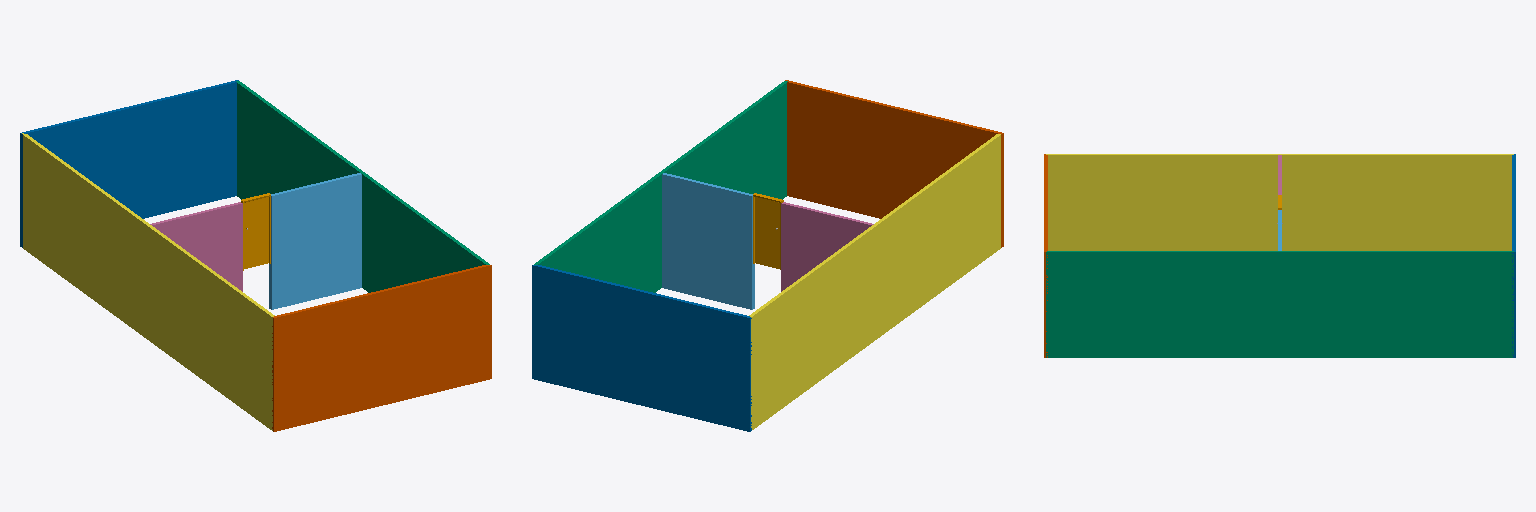
The robot description file, URDF, robot "8903":
<?xml version="1.0" ?>
<robot name="8903" version="1.0">
  <link name="base_link">
    <visual name="link_0___1">
      <origin rpy="0.0 0.0 0.0" xyz="0.0 -0.0 0.0"/>
      <geometry>
        <mesh filename="shape/visual/link_0_m1_vm.obj"/>
      </geometry>
    </visual>
    <collision>
      <origin rpy="0.0 0.0 0.0" xyz="0.0 -0.0 0.0"/>
      <geometry>
        <mesh filename="shape/collision/link_0_cm.obj"/>
      </geometry>
    </collision>
  </link>
  <link name="door_left_wall">
    <visual name="left_wall_0___1">
      <origin rpy="0.0 0.0 0.0" xyz="0.0 -0.0 0.0"/>
      <geometry>
        <box size="2.5 0.1 3.0"/>
      </geometry>
    </visual>
    <collision>
      <origin rpy="0.0 0.0 0.0" xyz="0.0 -0.0 0.0"/>
      <geometry>
        <box size="2.5 0.1 0.5"/>
      </geometry>
    </collision>
  </link>
  <link name="left_wall">
    <visual name="left_wall_1___1">
      <origin rpy="0.0 0.0 0.0" xyz="0.0 -0.0 0.0"/>
      <geometry>
        <box size="12.0 0.1 3.0"/>
      </geometry>
    </visual>
    <collision>
      <origin rpy="0.0 0.0 0.0" xyz="0.0 -0.0 0.0"/>
      <geometry>
        <box size="12.0 0.1 0.5"/>
      </geometry>
    </collision>
  </link>
  <link name="right_wall">
    <visual name="right_wall_1___1">
      <origin rpy="0.0 0.0 0.0" xyz="0.0 -0.0 0.0"/>
      <geometry>
        <box size="12.0 0.1 3.0"/>
      </geometry>
    </visual>
    <collision>
      <origin rpy="0.0 0.0 0.0" xyz="0.0 -0.0 0.0"/>
      <geometry>
        <box size="12.0 0.1 0.5"/>
      </geometry>
    </collision>
  </link>
  <link name="back_wall">
    <visual name="back_wall_1___1">
      <origin rpy="0.0 0.0 0.0" xyz="0.0 -0.0 0.0"/>
      <geometry>
        <box size="6.0 0.1 3.0"/>
      </geometry>
    </visual>
    <collision>
      <origin rpy="0.0 0.0 0.0" xyz="0.0 -0.0 0.0"/>
      <geometry>
        <box size="6.0 0.1 0.5"/>
      </geometry>
    </collision>
  </link>

  <link name="back_wall_2">
    <visual name="back_wall_1___1">
      <origin rpy="0.0 0.0 0.0" xyz="0.0 -0.0 0.0"/>
      <geometry>
        <box size="6.0 0.1 3.0"/>
      </geometry>
    </visual>
    <collision>
      <origin rpy="0.0 0.0 0.0" xyz="0.0 -0.0 0.0"/>
      <geometry>
        <box size="6.0 0.1 0.5"/>
      </geometry>
    </collision>
  </link>
  <link name="door_right_wall">
    <visual name="right_wall_0___1">
      <origin rpy="0.0 0.0 0.0" xyz="0.0 -0.0 0.0"/>
      <geometry>
        <box size="2.5 0.1 3.0"/>
      </geometry>
    </visual>
    <collision>
      <origin rpy="0.0 0.0 0.0" xyz="0.0 -0.0 0.0"/>
      <geometry>
        <box size="2.5 0.1 0.5"/>
      </geometry>
    </collision>
  </link>
  <link name="link_1">
    <visual name="link_1___2">
      <origin rpy="0.0 0.0 0.0" xyz="0.2718480576000603 0.07412800192832969 -0.14707143841511927"/>
      <geometry>
        <mesh filename="shape/visual/link_1_m2_vm.obj"/>
      </geometry>
    </visual>
    <collision>
      <origin rpy="0.0 0.0 0.0" xyz="0.2718480576000603 0.07412800192832969 -0.14707143841511927"/>
      <geometry>
        <mesh filename="shape/collision/link_1_cm.obj"/>
      </geometry>
    </collision>
  </link>
  <link name="link_2">
    <visual name="link_2___1">
      <origin rpy="0.0 0.0 0.0" xyz="-0.37034833274488377 0.0017434567958520795 -0.8958240151405333"/>
      <geometry>
        <mesh filename="shape/visual/link_2_m1_vm.obj"/>
      </geometry>
    </visual>
    <visual name="link_2___2">
      <origin rpy="0.0 0.0 0.0" xyz="-0.37034833274488377 0.0017434567958520795 -0.8958240151405333"/>
      <geometry>
        <mesh filename="shape/visual/link_2_m2_vm.obj"/>
      </geometry>
    </visual>
    <collision>
      <origin rpy="0.0 0.0 0.0" xyz="-0.37034833274488377 0.0017434567958520795 -0.8958240151405333"/>
      <geometry>
        <mesh filename="shape/collision/link_2_cm.obj"/>
      </geometry>
    </collision>
  </link>
  <joint name="joint_1" type="revolute">
    <origin rpy="0.0 0.0 0.0" xyz="-0.6421963903449441 -0.0723845451324776 -0.7487525767254141"/>
    <axis xyz="0.0 -1.0 0.0"/>
    <parent link="link_2"/>
    <child link="link_1"/>
    <limit lower="0.0" upper="1.5707963267948966"/>
  </joint>
  <joint name="joint_2" type="revolute">
    <origin rpy="0.0 0.0 0.0" xyz="0.37034833274488377 -0.0017434567958520795 0.8958240151405333"/>
    <axis xyz="0.0 -0.0 0.9999999999999999"/>
    <parent link="base_link"/>
    <child link="link_2"/>
    <limit lower="0.0" upper="1.5707963267948966"/>
  </joint>
  <joint name="joint_3" type="fixed">
    <origin rpy="0.0 0.0 0.0" xyz="1.65 0.0 -0.65"/>
    <parent link="base_link"/>
    <child link="door_left_wall"/>
  </joint>
  <joint name="joint_4" type="fixed">
    <origin rpy="0.0 0.0 1.57079632679" xyz="2.95 0 -0.65"/>
    <parent link="base_link"/>
    <child link="left_wall"/>
  </joint>
  <joint name="joint_5" type="fixed">
    <origin rpy="0.0 0.0 1.57079632679" xyz="-2.95 0 -0.65"/>
    <parent link="base_link"/>
    <child link="right_wall"/>
  </joint>
  <joint name="joint_6" type="fixed">
    <origin rpy="0.0 0.0 0" xyz="-0.0 6.0 -0.65"/>
    <parent link="base_link"/>
    <child link="back_wall"/>
  </joint>
  <joint name="joint_7" type="fixed">
    <origin rpy="0.0 0.0 0.0" xyz="-1.65 0.0 -0.65"/>
    <parent link="base_link"/>
    <child link="door_right_wall"/>
  </joint>
  <joint name="joint_8" type="fixed">
    <origin rpy="0.0 0.0 0" xyz="-0.0 -6.0 -0.65"/>
    <parent link="base_link"/>
    <child link="back_wall_2"/>
  </joint>
</robot>

--- Facts derived from the render (not from the file) ---
3 views of the same robot in one strip: view 1: azimuth 30°, elevation 25°; view 2: azimuth 150°, elevation 25°; view 3: azimuth 270°, elevation 25° (orthographic).
Robot: 8903 — 9 links, 8 joints (2 revolute, 6 fixed); root link base_link; default pose: every joint at zero.
Visible links, largest first — view 1: right_wall, back_wall_2, back_wall, left_wall, door_left_wall, door_right_wall, link_2; view 2: right_wall, back_wall, back_wall_2, left_wall, door_left_wall, door_right_wall, link_2; view 3: left_wall, right_wall, back_wall, back_wall_2.
Boxes of the visible links, x1,y1,x2,y2 form: right_wall: [22, 133, 274, 430]; back_wall_2: [272, 265, 491, 431]; back_wall: [20, 80, 238, 247]; left_wall: [236, 81, 489, 292]; door_left_wall: [269, 173, 361, 309]; door_right_wall: [150, 202, 242, 291]; link_2: [244, 197, 268, 268]; right_wall: [749, 134, 1000, 429]; back_wall: [532, 265, 751, 431]; back_wall_2: [785, 80, 1003, 247]; left_wall: [534, 81, 787, 292]; door_left_wall: [662, 173, 754, 309]; door_right_wall: [781, 202, 873, 291]; link_2: [755, 197, 779, 268]; left_wall: [1046, 251, 1513, 357]; right_wall: [1046, 154, 1513, 250]; back_wall: [1512, 154, 1515, 357]; back_wall_2: [1044, 154, 1047, 357].
Bounding box of the posed robot: 6 × 12.1 × 3.05 m (x, y, z).
4 mesh visuals loaded from 4 distinct referenced files (4 OBJ).